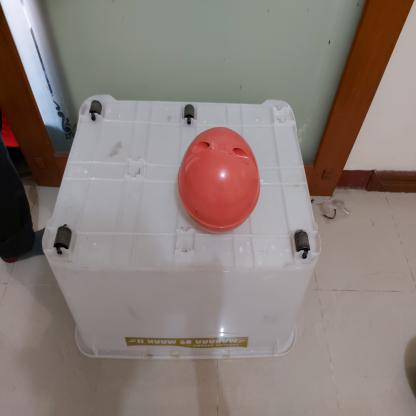red_buoy: (176, 125, 264, 235)
